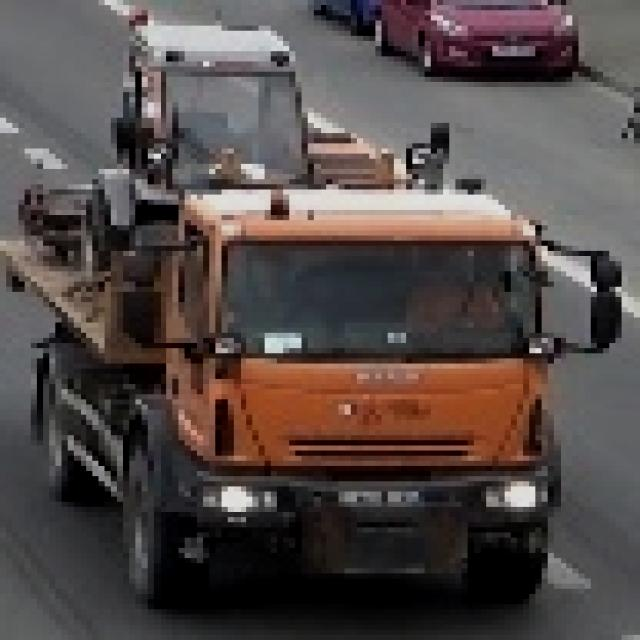truck: (1, 129, 616, 600)
